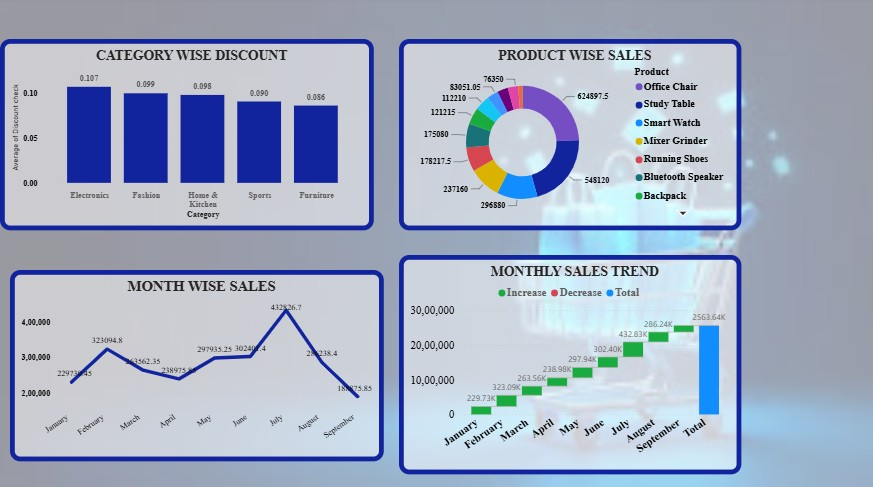

This screenshot's page, from the dashboard's own definition file:
{"tool":"powerbi","page":{"name":"Page 2","canvas":[1280,720],"ordinal":1},"visuals":[{"type":"columnChart","title":"CATEGORY WISE DISCOUNT","fields":{"Category":["Sales Data.Category"],"Y":["Avg(Sales Data.Discount check)"]},"box":[0,62.1,546.8,280.5],"z":0},{"type":"donutChart","title":"PRODUCT WISE SALES","fields":{"Category":["Sales Data.Product"],"Y":["Sum(Sales Data.Sales amount check)"]},"box":[584.1,62.1,500.6,280.5],"z":1000},{"type":"lineChart","title":"MONTH WISE SALES","fields":{"Category":["Sales Data.Order Date.Variation.Date Hierarchy.Month"],"Y":["Sum(Sales Data.Sales amount check)"]},"box":[14.2,399.4,546.8,280.5],"z":2000},{"type":"waterfallChart","title":"MONTHLY SALES TREND","fields":{"Category":["Sales Data.Order Date.Variation.Date Hierarchy.Month"],"Y":["Sum(Sales Data.Sales amount check)"]},"box":[584.1,378.1,500.6,321.3],"z":3000}]}

Visuals, with their boxes in screenshot pixels (x1, y1, x2, y2), scaled from the page's 1280x720 canvas onto the 873x487 screenshot:
"CATEGORY WISE DISCOUNT" columnChart: (0,42,373,232)
"PRODUCT WISE SALES" donutChart: (398,42,740,232)
"MONTH WISE SALES" lineChart: (10,270,383,460)
"MONTHLY SALES TREND" waterfallChart: (398,256,740,473)
